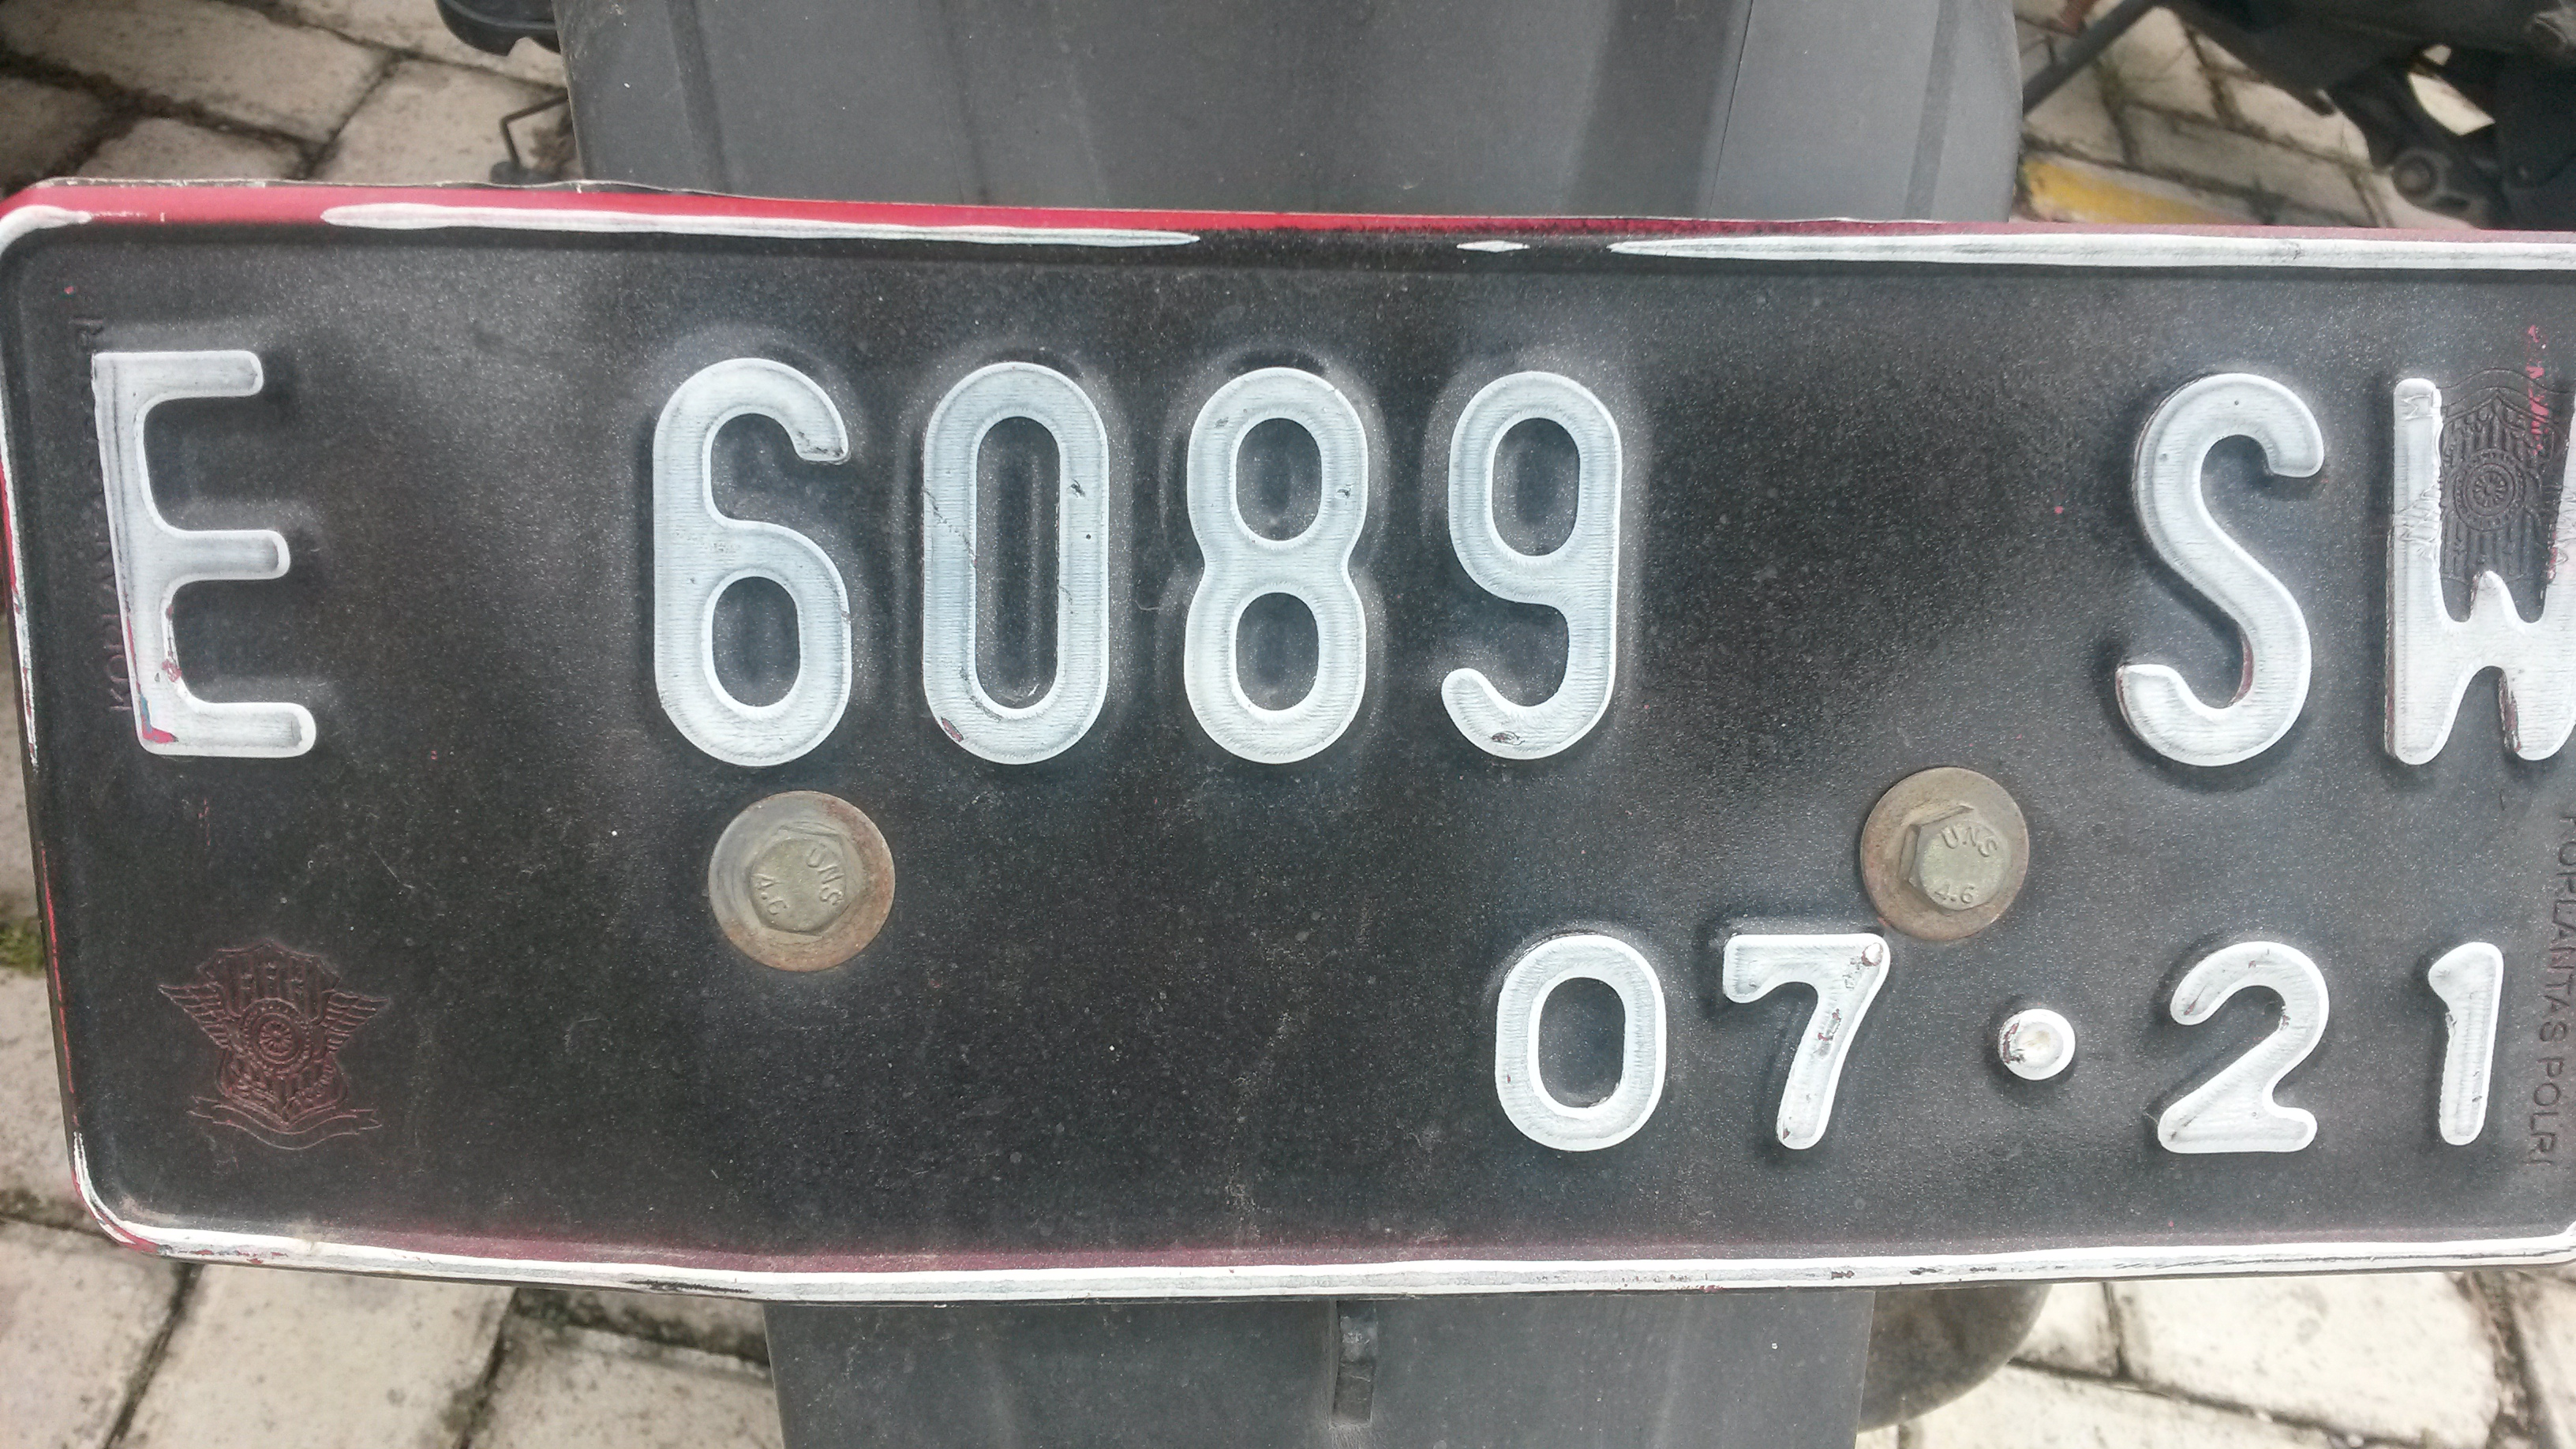plate: (6, 176, 2576, 1305)
